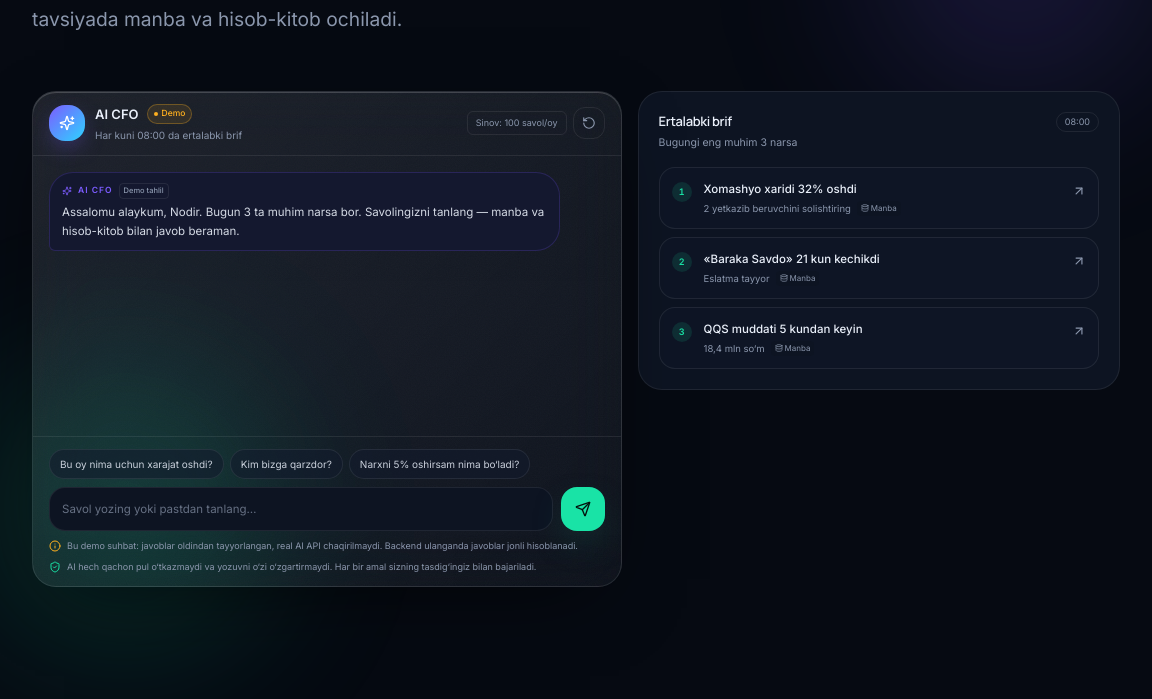
it: AI CFO demo holatlari › suhbatni tozalash boshlang‘ich holatga qaytaradi
(page scrolled)
Step 1. Click the button "Bu oy nima uchun xarajat oshdi?" → [136, 464], box [49,449,224,479]
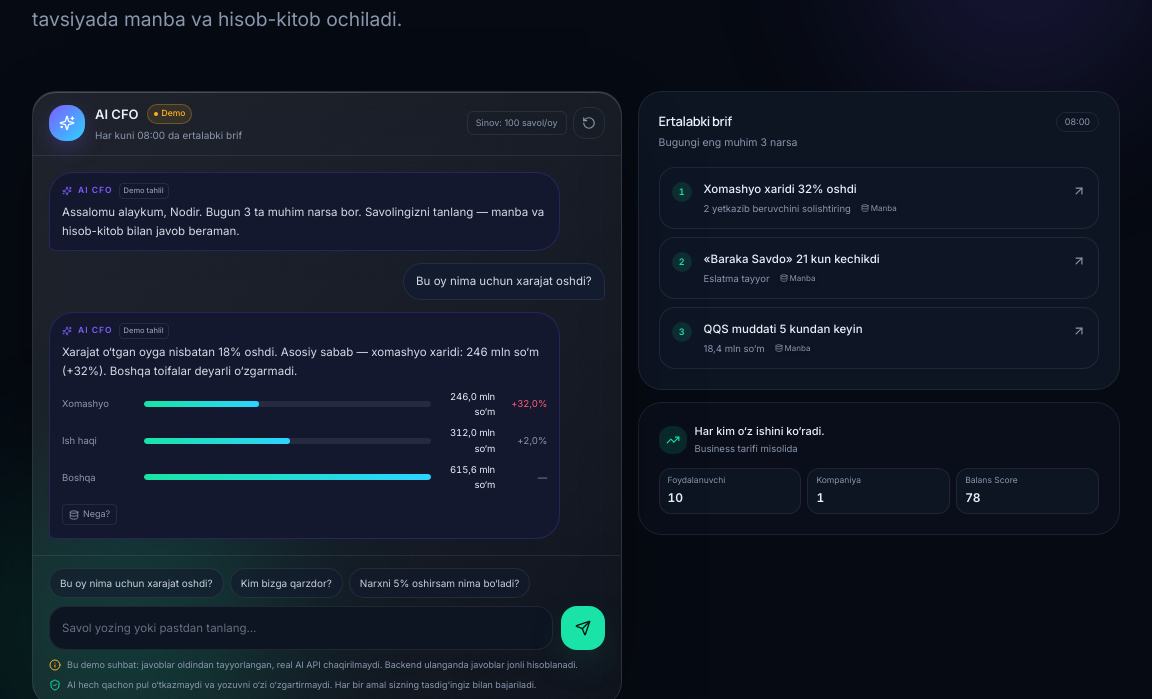
Now the text "Xarajat o‘tgan oyga nisbatan 18% oshdi. Asosiy sabab — xomashyo xaridi: 246 mln so‘m (+32%). Boshqa toifalar deyarli o‘z" is shown, box [62,345,539,378]
Step 2. Click the button named "Suhbatni tozalash" → [589, 123], box [573,107,605,139]
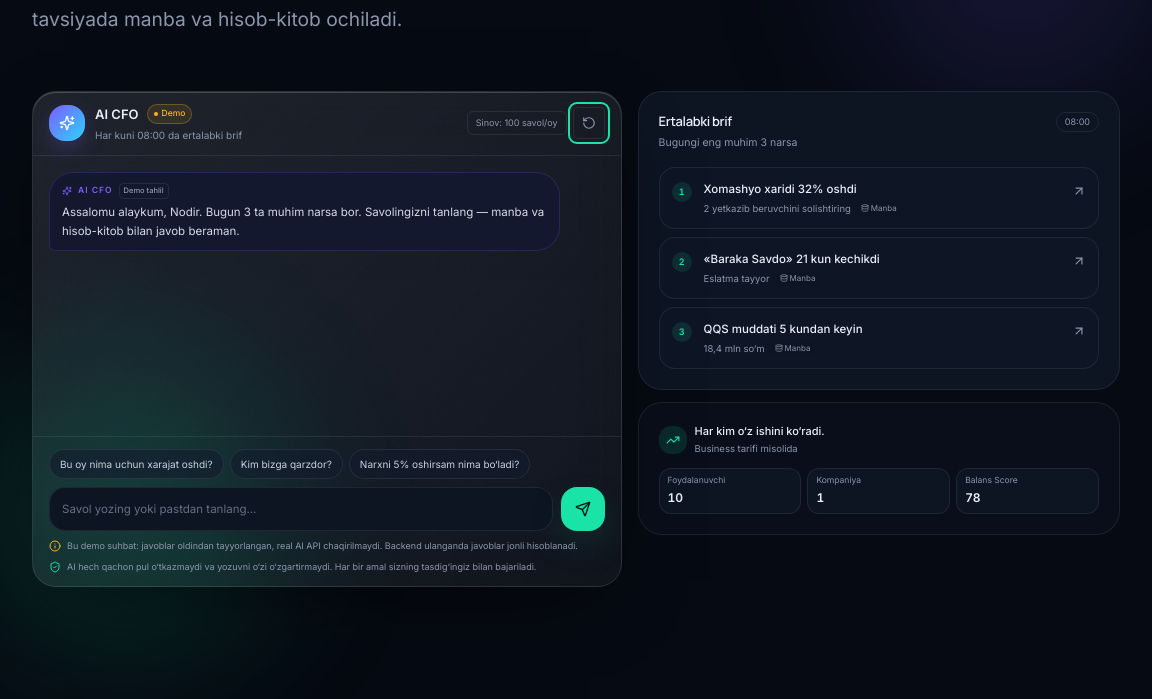
Expected: the text "Assalomu alaykum, Nodir. Bugun 3 ta muhim narsa bor. Savolingizni tanlang — manba va hisob-kitob bilan javob beraman." is shown, [62,205,544,238]
Now the text "Xarajat o‘tgan oyga nisbatan 18% oshdi. Asosiy sabab — xomashyo xaridi: 246 mln so‘m (+32%). Boshqa toifalar deyarli o‘z" is gone
